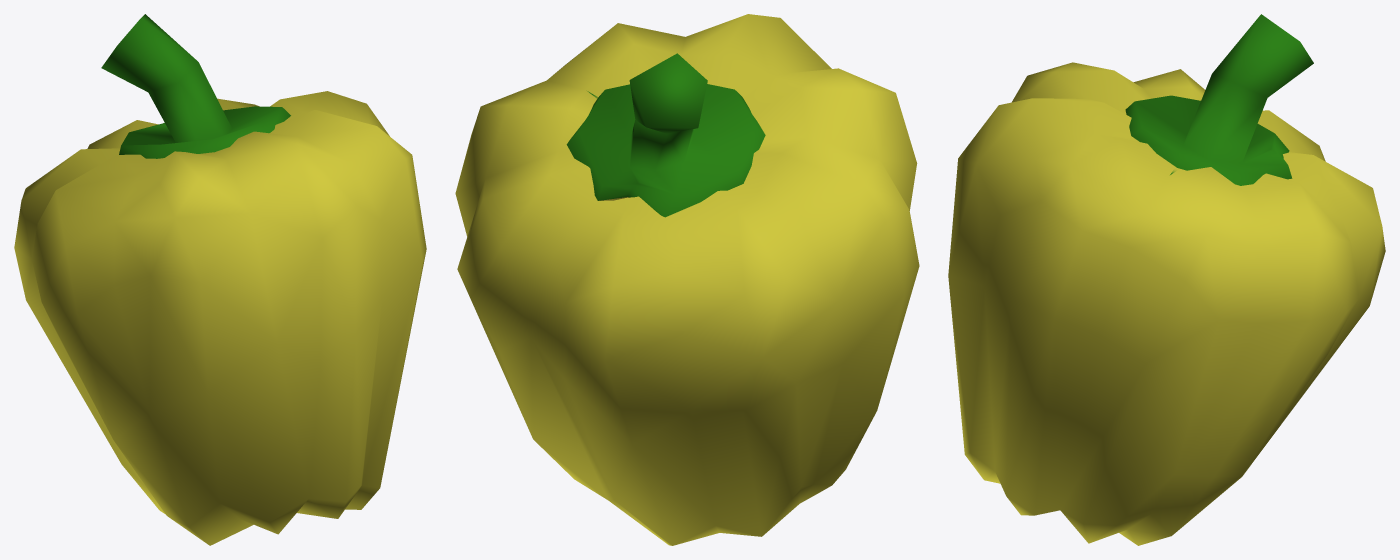
Rendered from Peperone.fbx.
The picture shows the model from 3 angles, left to right: view 1: azimuth 30°, elevation 25°; view 2: azimuth 150°, elevation 25°; view 3: azimuth 270°, elevation 25°; orthographic projection. The views are drawn at different scales.
Visible parts, largest first — view 1: Paprika.055; view 2: Paprika.055; view 3: Paprika.055.
Part boxes in pixels (x1,y1,x2,y2): Paprika.055: (14, 14, 426, 545); Paprika.055: (455, 14, 919, 545); Paprika.055: (948, 14, 1385, 545).
Size of the model in its own units: 11.09 by 13.82 by 11.04.
